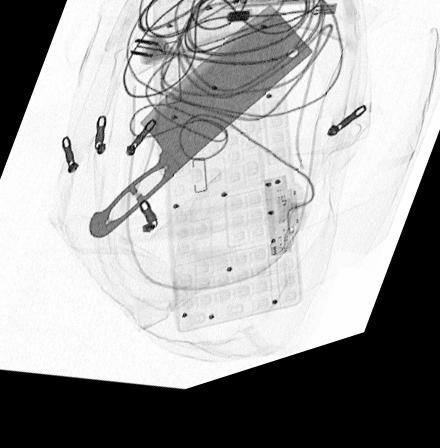Knife: (87, 21, 314, 245)
